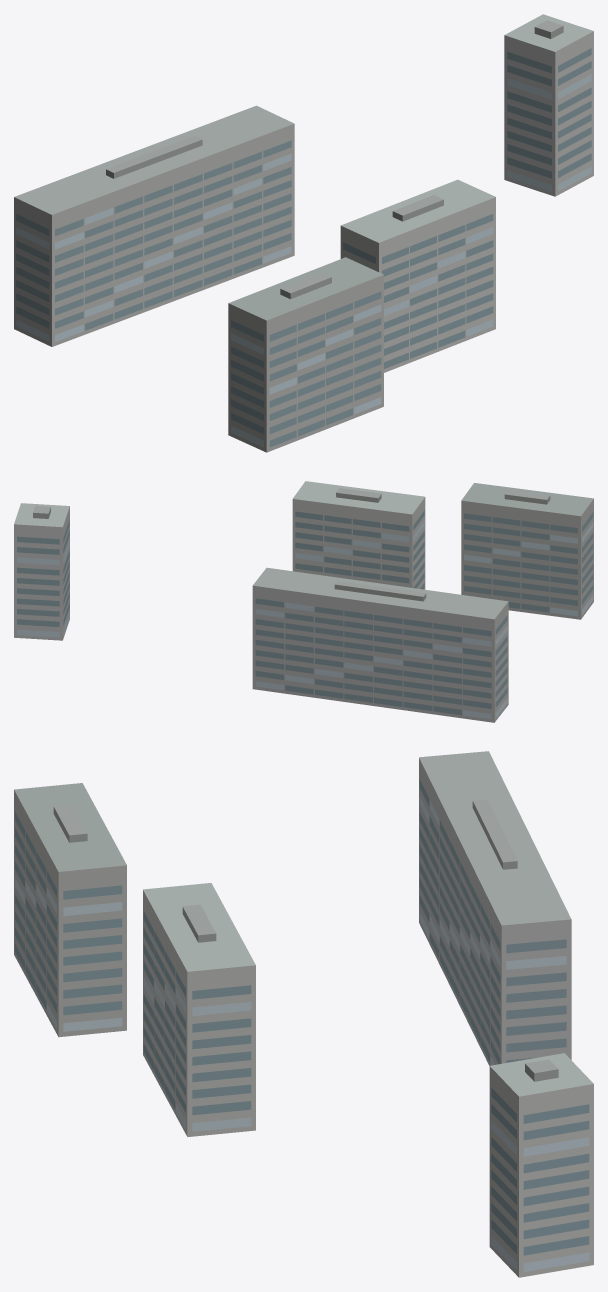
File: apt-a15883702.glb
3 renders of one model, top to bottom at view 1: azimuth 30°, elevation 25°; view 2: azimuth 150°, elevation 25°; view 3: azimuth 270°, elevation 25°, orthographic. The views are drawn at different scales.
Parts seen in each view (by area): view 1: apt-a15883702; view 2: apt-a15883702; view 3: apt-a15883702.
Part boxes in pixels (x1=…): apt-a15883702: x1=14, y1=14, x2=593, y2=452; apt-a15883702: x1=14, y1=481, x2=593, y2=722; apt-a15883702: x1=14, y1=751, x2=593, y2=1277.
Size of the model in its own units: 143 by 35 by 97.
